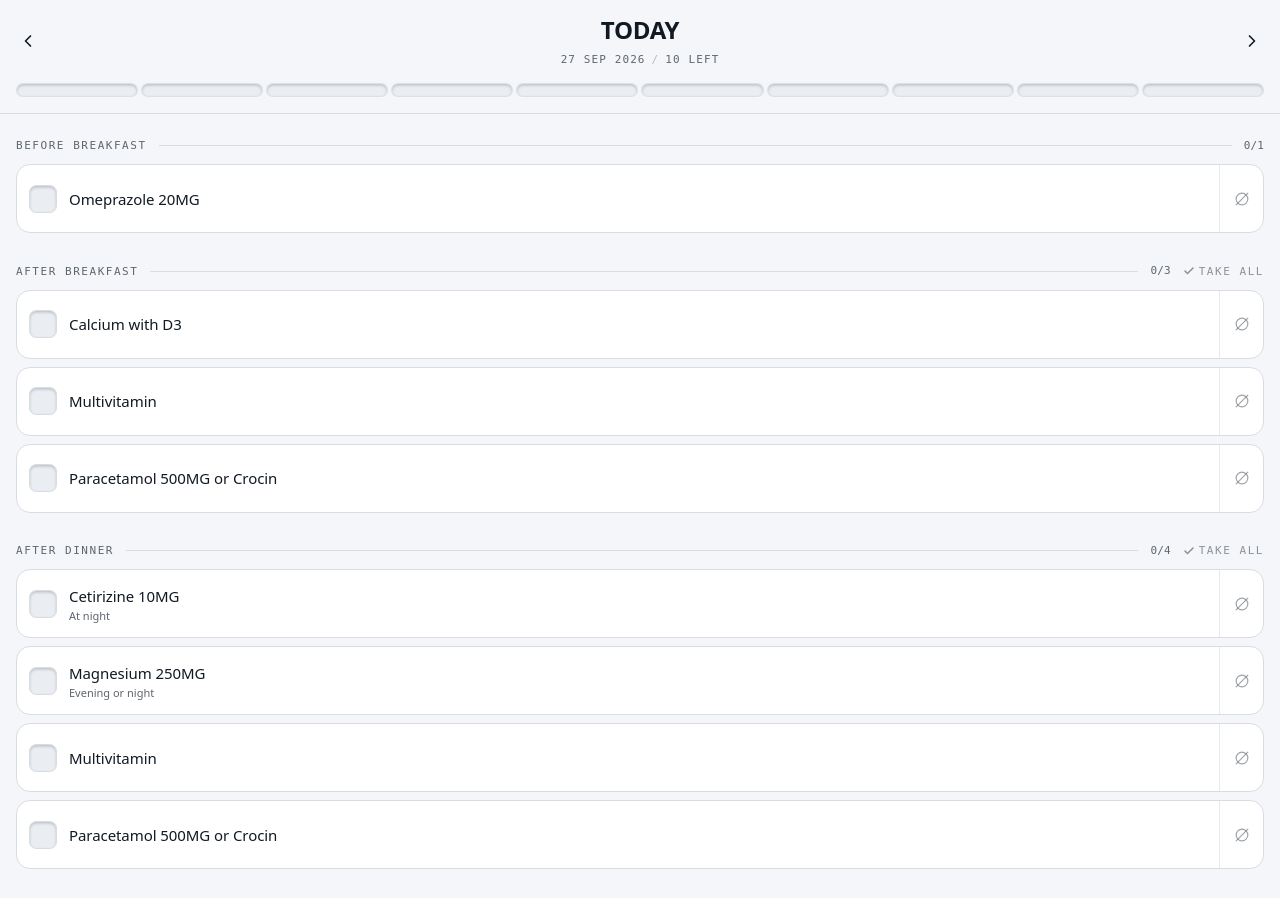
the Today screen › keeps skipped separate from taken, and swaps between them
Click the button named "Skip Calcium with D3": (1241, 324) [1219, 290, 1263, 358]
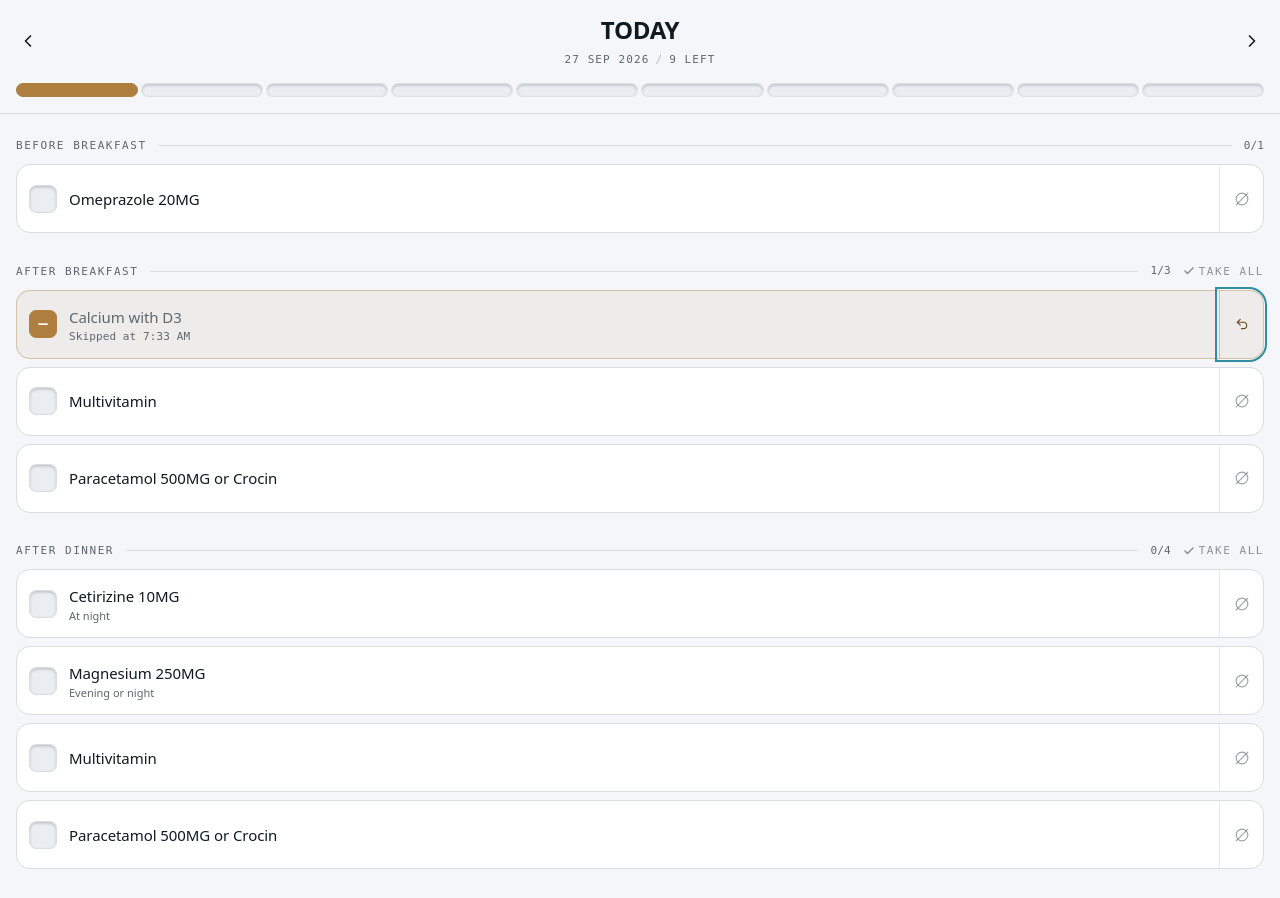
Expected: the text "Skipped at 7:33 AM" is shown, [69, 328, 190, 344]
Click the button "Calcium with D3 Skipped at 7:33 AM": (125, 316) [17, 290, 1219, 358]
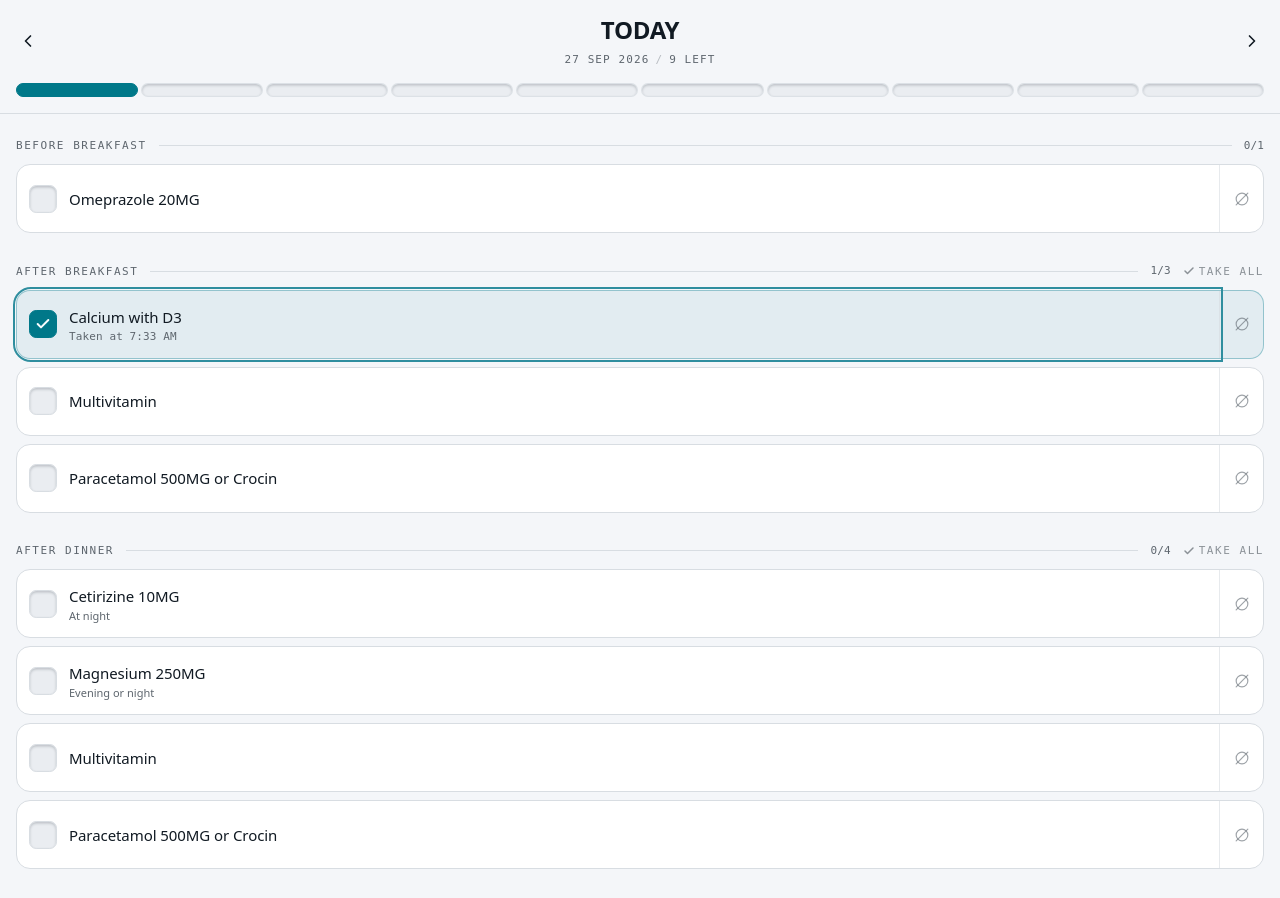
Expected: the text "Taken at 7:33 AM" is shown, [69, 328, 182, 344]
